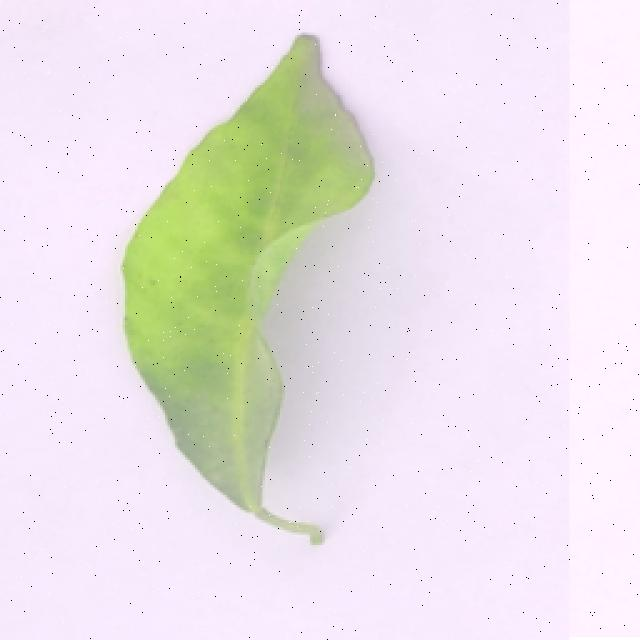greening: (119, 31, 383, 550)
